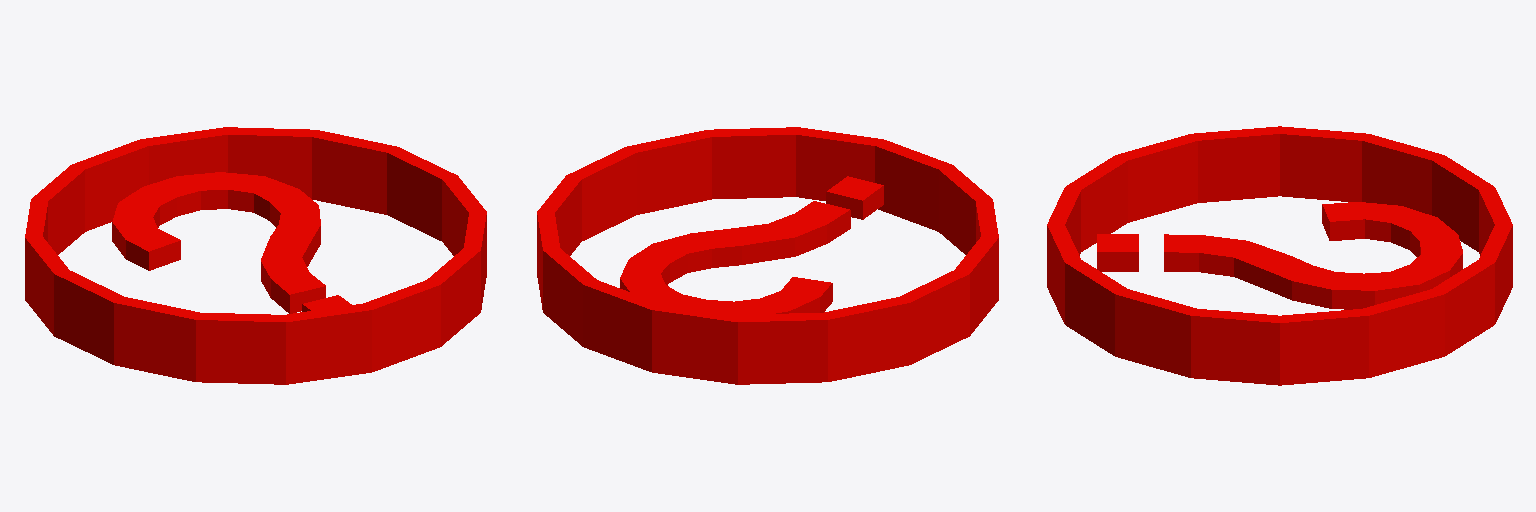
File: IndiceRouge.obj
The picture shows the model from 3 angles: view 1: azimuth 30°, elevation 25°; view 2: azimuth 150°, elevation 25°; view 3: azimuth 270°, elevation 25°; orthographic projection.
Parts seen in each view (by area): view 1: IndiceSocleRe, IndiceInteroRe; view 2: IndiceSocleRe, IndiceInteroRe; view 3: IndiceSocleRe, IndiceInteroRe.
Part boxes in pixels (x1,y1,x2,y2): IndiceSocleRe: (25,127,486,384); IndiceInteroRe: (112,172,351,313); IndiceSocleRe: (537,127,998,384); IndiceInteroRe: (620,176,883,314); IndiceSocleRe: (1047,126,1512,385); IndiceInteroRe: (1097,202,1462,309).
Size of the model in its own units: 231 by 34.21 by 231.